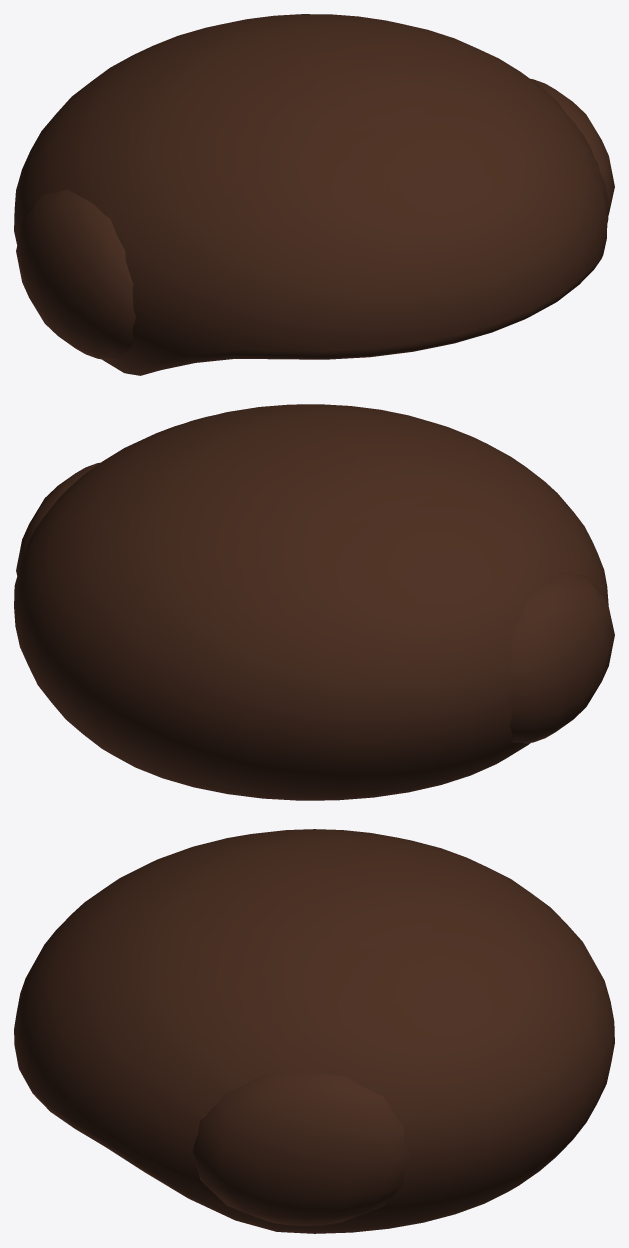
File: hair_balding.glb
The picture shows the model from 3 angles, top to bottom: view 1: azimuth 30°, elevation 25°; view 2: azimuth 150°, elevation 25°; view 3: azimuth 270°, elevation 25°; orthographic projection.
Parts seen in each view (by area): view 1: Hair; view 2: Hair; view 3: Hair.
Part boxes in pixels (x1,y1,x2,y2): Hair: (14, 14, 614, 375); Hair: (14, 404, 614, 800); Hair: (14, 829, 614, 1233).
Size of the model in its own units: 2.24 by 1 by 2.1.
